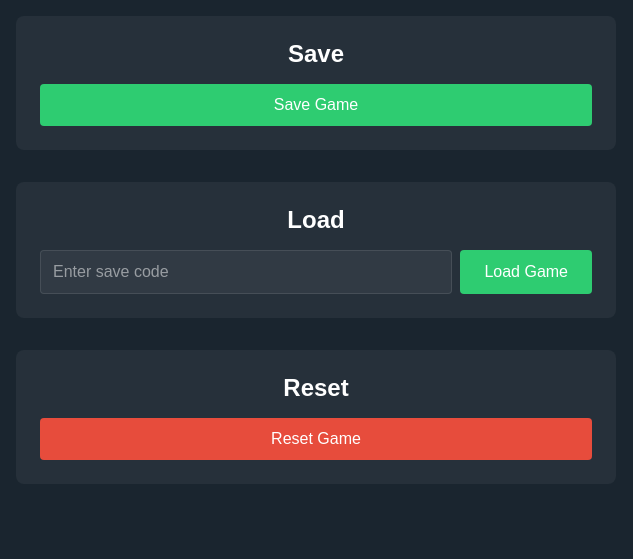
SaveLoadView › Save Game › should show error message if save fails
This screenshot has width=633, height=559.
Click the button with class "save-button": (316, 105) [40,84,592,126]
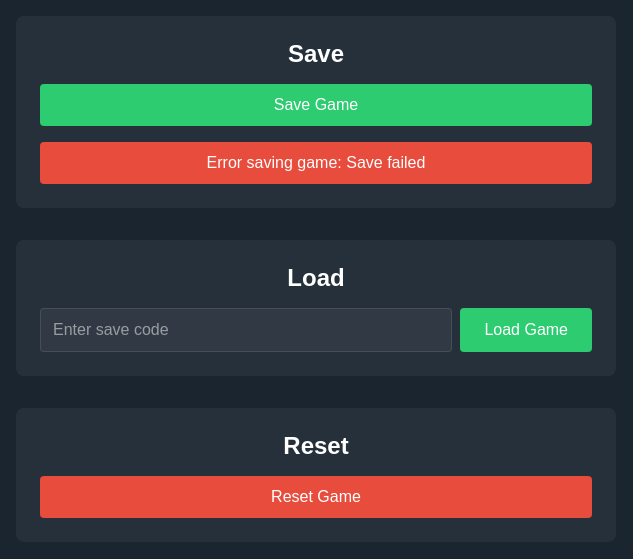
Expected: the text with class "message" shows "Error saving game", [207,154,425,171]
